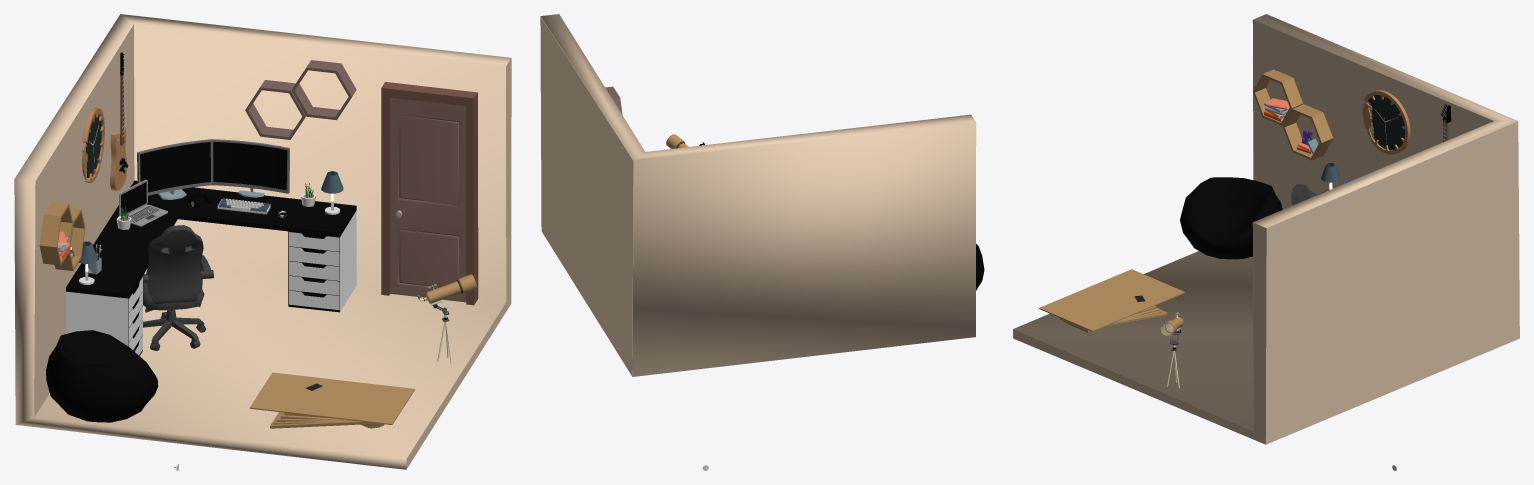
File: Finale.glb
The picture shows the model from 3 angles, left to right: view 1: azimuth 30°, elevation 25°; view 2: azimuth 150°, elevation 25°; view 3: azimuth 270°, elevation 25°; orthographic projection. The views are drawn at different scales.
Parts seen in each view (by area): view 1: Plane, office_table.028, Plane.002, door.011, armchair.001, door.022, office_chair.015, glass, electronics.027, electronics.026, shelf.001, shelf.004 (+8 smaller); view 2: Plane, Plane.002; view 3: Plane.002, Plane, armchair.001, glass, shelf.004, Cylinder.006_Cylinder.009, Cylinder.001_Cylinder.002, foot.
Boxes of the visible parts, bbox=[...] form: Plane: bbox=[14, 14, 510, 469]; office_table.028: bbox=[66, 180, 356, 355]; Plane.002: bbox=[34, 14, 511, 468]; door.011: bbox=[390, 97, 466, 302]; armchair.001: bbox=[46, 330, 158, 422]; door.022: bbox=[381, 82, 478, 305]; office_chair.015: bbox=[143, 225, 213, 350]; glass: bbox=[249, 372, 414, 424]; electronics.027: bbox=[211, 139, 289, 197]; electronics.026: bbox=[137, 139, 211, 199]; shelf.001: bbox=[245, 60, 356, 139]; shelf.004: bbox=[39, 201, 85, 270]; Plane: bbox=[541, 14, 976, 376]; Plane.002: bbox=[540, 16, 633, 376]; Plane.002: bbox=[1013, 20, 1519, 444]; Plane: bbox=[1013, 14, 1517, 430]; armchair.001: bbox=[1180, 177, 1282, 259]; glass: bbox=[1039, 269, 1185, 331]; shelf.004: bbox=[1253, 69, 1332, 160]; Cylinder.006_Cylinder.009: bbox=[1368, 95, 1405, 150]; Cylinder.001_Cylinder.002: bbox=[1364, 90, 1410, 154]; foot: bbox=[1056, 306, 1167, 332].
Size of the model in its own units: 4.78 by 3.7 by 4.78.
Materials: 35 (3 with a texture image).
